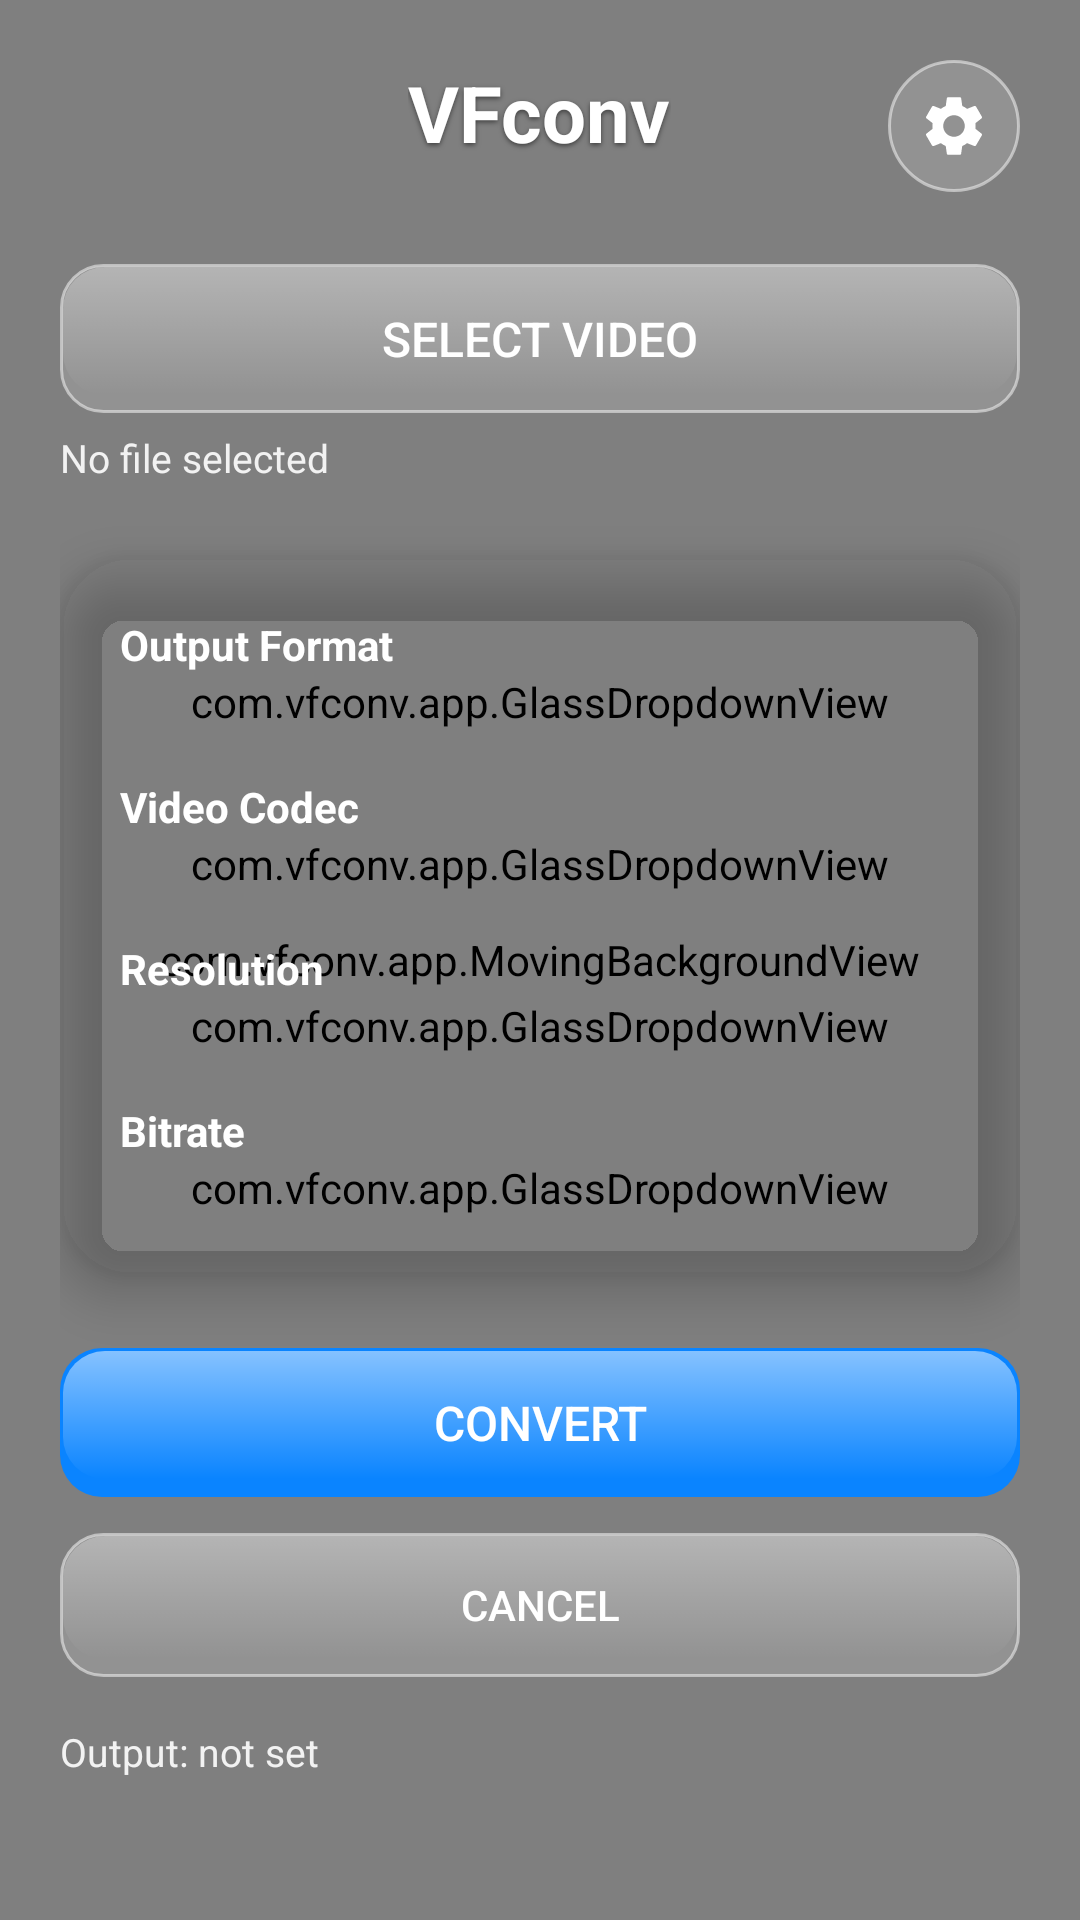

Screen size 1080px x 1920px. Icon name, then its center in pixels as point (x, y):
Settings: point (954, 126)
